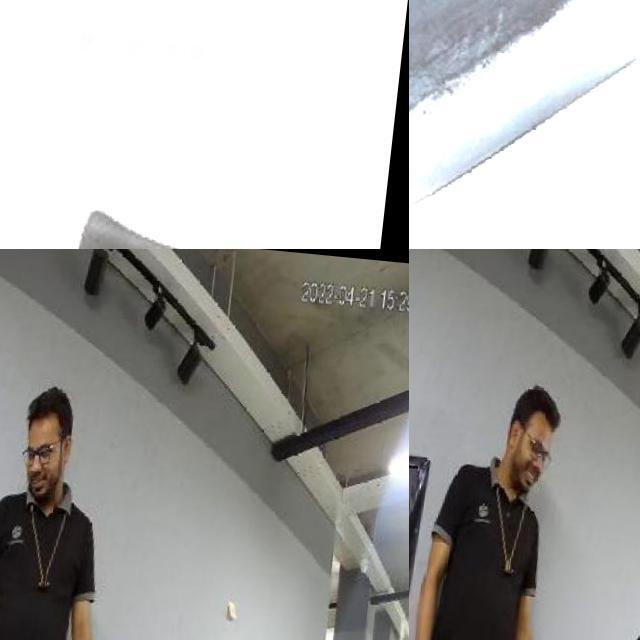-: (0, 56, 366, 249), (409, 0, 640, 249)
